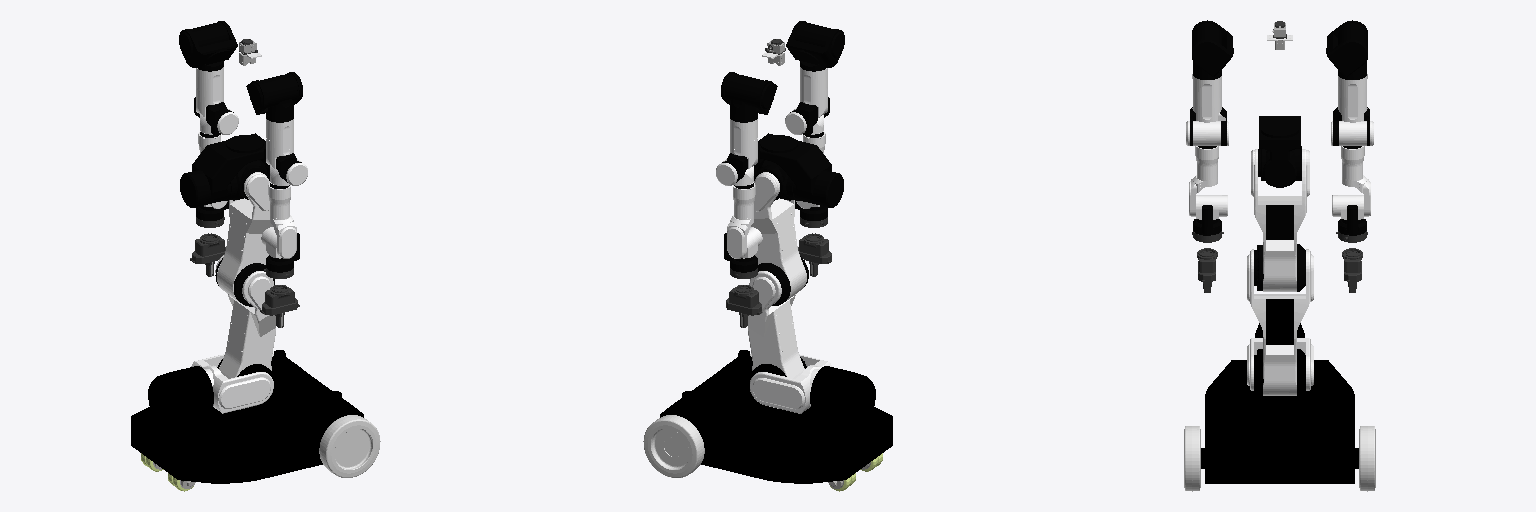
--- Facts derived from the render (not from the file) ---
3 views of the same robot in one strip: view 1: azimuth 30°, elevation 25°; view 2: azimuth 150°, elevation 25°; view 3: azimuth 270°, elevation 25° (orthographic).
Robot: RB_Y1_V1_0_1 — 34 links, 33 joints (22 revolute, 2 continuous, 4 prismatic, 5 fixed); root link base; default pose: every joint at zero.
Links seen in each view (by area): view 1: base, link_torso_2, link_torso_1, link_torso_4, wheel_r, link_torso_0, link_left_arm_2, link_right_arm_2, link_left_arm_0, link_right_arm_1, link_right_arm_3, ee_right (+6 smaller); view 2: base, link_torso_2, link_torso_1, link_torso_4, wheel_l, link_torso_0, link_right_arm_2, link_left_arm_2, link_right_arm_0, link_left_arm_1, link_left_arm_3, ee_left (+6 smaller); view 3: base, link_torso_1, link_torso_2, link_torso_4, link_right_arm_2, link_left_arm_2, link_right_arm_3, link_left_arm_3, link_right_arm_0, link_left_arm_0, link_right_arm_5, link_left_arm_5 (+7 smaller).
Link boxes in pixels (x1,y1,x2,y2): base: [131, 350, 363, 491]; link_torso_2: [215, 172, 274, 306]; link_torso_1: [215, 255, 275, 407]; link_torso_4: [180, 133, 269, 207]; wheel_r: [319, 415, 380, 477]; link_torso_0: [191, 354, 273, 413]; link_left_arm_2: [194, 67, 238, 134]; link_right_arm_2: [264, 119, 307, 185]; link_left_arm_0: [179, 21, 237, 67]; link_right_arm_1: [260, 74, 297, 122]; link_right_arm_3: [267, 159, 300, 218]; ee_right: [260, 285, 299, 315]; base: [660, 350, 892, 491]; link_torso_2: [751, 172, 808, 305]; link_torso_1: [748, 259, 806, 379]; link_torso_4: [757, 133, 843, 207]; wheel_l: [643, 415, 704, 477]; link_torso_0: [750, 354, 831, 413]; link_right_arm_2: [785, 67, 829, 134]; link_left_arm_2: [716, 119, 759, 185]; link_right_arm_0: [786, 21, 844, 67]; link_left_arm_1: [726, 74, 763, 122]; link_left_arm_3: [723, 159, 756, 218]; ee_left: [726, 285, 761, 315]; base: [1201, 323, 1358, 483]; link_torso_1: [1247, 249, 1313, 395]; link_torso_2: [1251, 149, 1309, 291]; link_torso_4: [1259, 116, 1300, 187]; link_right_arm_2: [1186, 74, 1228, 145]; link_left_arm_2: [1331, 74, 1373, 145]; link_right_arm_3: [1193, 121, 1225, 179]; link_left_arm_3: [1334, 121, 1366, 179]; link_right_arm_0: [1192, 20, 1233, 76]; link_left_arm_0: [1326, 20, 1367, 76]; link_right_arm_5: [1193, 195, 1227, 235]; link_left_arm_5: [1332, 195, 1366, 235].
Bounding box of the posed robot: 0.6626 × 0.58 × 1.45 m (x, y, z).
30 mesh visuals loaded from 29 distinct referenced files (25 Collada DAE); not drawn: 4 (reference not matched to a file when rendering).

The robot description file, URDF, robot "RB_Y1_V1_0_1":
<?xml version="1.0"?>
<robot name="RB_Y1_V1_0_1">
    <mobile type="differential" xyz="0.228 0 0" rpy="0 0 0" joints="right_wheel left_wheel"
            params="0.53 0.1"/> <!-- wheel_base, wheel_radius -->

    <link name="base">
        <inertial>
            <mass value="60.08042639"/>
            <origin rpy="0 0 0" xyz="-0.06157942 -0.00142271 0.13513861"/>
            <inertia ixx="1.37742174" ixy="0.02521789" ixz="0.18565467" iyy="2.99386515" iyz="-0.00641869"
                     izz="3.76085052"/>
        </inertial>

        <visual>
            <geometry>
                <mesh filename="./meshes/base.dae"/>
            </geometry>
        </visual>
    </link>

    <link name="wheel_r">
        <inertial>
            <mass value="1.37783736"/>
            <origin rpy="0 0 0" xyz="0.0 -0.00073938 0.0"/>
            <inertia ixx="0.00426657" ixy="0.0" ixz="0.0" iyy="0.00811815" iyz="0.0" izz="0.00426657"/>
        </inertial>

        <visual>
            <geometry>
                <mesh filename="./meshes/WHEEL.dae"/>
            </geometry>
        </visual>
    </link>

    <link name="wheel_l">
        <inertial>
            <mass value="1.37783736"/>
            <origin rpy="0 0 0" xyz="0.0 0.00073938 0.0"/>
            <inertia ixx="0.00426657" ixy="0.0" ixz="0.0" iyy="0.00811815" iyz="0.0" izz="0.00426657"/>
        </inertial>

        <visual>
            <geometry>
                <mesh filename="./meshes/WHEEL.dae"/>
            </geometry>
        </visual>
    </link>

    <link name="link_torso_0">
        <inertial>
            <mass value="2.24282123"/>
            <origin rpy="0 0 0" xyz="-0.08848415 0.00021367 0.00000046"/>
            <inertia ixx="0.01413496" ixy="0.00092982" ixz="-0.00000010" iyy="0.01005357"
                     iyz="-0.00000008" izz="0.01892525"/>
        </inertial>

        <visual>
            <geometry>
                <mesh filename="./meshes/LINK_1.dae"/>
            </geometry>
        </visual>

        <collision>
            <origin xyz="-0.115 0 0" rpy="0 1.5708 0"/>
            <geometry>
                <capsule radius="0.105" length="0.230" coltype="1"/>
                <!-- <capsule sp="0.0 0.0 0.0" ep="-0.230 0.0 0.0" radius="0.105" length="1"/> -->
            </geometry>
        </collision>
    </link>

    <link name="link_torso_1">
        <inertial>
            <mass value="9.72162676"/>
            <origin rpy="0 0 0" xyz="0.00728955 -0.01728522 0.06911380"/>
            <inertia ixx="0.14862640" ixy="-0.00142621" ixz="-0.00951385" iyy="0.13854733"
                     iyz="-0.00975351" izz="0.02912982"/>
        </inertial>

        <visual>
            <geometry>
                <mesh filename="./meshes/LINK_2.dae"/>
            </geometry>
        </visual>

        <collision>
            <origin xyz="0.0100 0 0.2400" rpy="0 0 0"/>
            <geometry>
                <capsule radius="0.115" length="0.220" coltype="2"/>
                <!-- <capsule sp="0.01 0.0 0.130" ep="0.01 0.0 0.350" radius="0.115"/> -->
            </geometry>
        </collision>
    </link>

    <link name="link_torso_2">
        <inertial>
            <mass value="9.21691850"/>
            <origin rpy="0 0 0" xyz="0.00653835 -0.01769536 0.05636582"/>
            <inertia ixx="0.12162270" ixy="-0.00127910" ixz="-0.00831678" iyy="0.11589190"
                     iyz="-0.00873271" izz="0.03094484"/>
        </inertial>

        <visual>
            <geometry>
                <mesh filename="./meshes/LINK_3.dae"/>
            </geometry>
        </visual>

        <collision>
            <origin xyz="0.0250 0 0.2300" rpy="0 0 0"/>
            <geometry>
                <capsule radius="0.095" length="0.1600" coltype="4"/>
                <!-- <capsule sp="0.025 0.0 0.15" ep="0.025 0.0 0.310" radius="0.095"/> -->
            </geometry>
        </collision>
    </link>

    <link name="link_torso_3">
        <inertial>
            <mass value="4.18679196"/>
            <origin rpy="0 0 0" xyz="-0.00574156 -0.01725975 0.00005610"/>
            <inertia ixx="0.00849870" ixy="0.00040861" ixz="-0.00000263" iyy="0.00929513"
                     iyz="-0.00001243" izz="0.00955442"/>
        </inertial>

        <visual>
            <geometry>
                <mesh filename="./meshes/LINK_4.dae"/>
            </geometry>
        </visual>
    </link>

    <link name="link_torso_4">
        <inertial>
            <mass value="4.45566276"/>
            <origin rpy="0 0 0" xyz="-0.09097095 0.00005085 0.02601950"/>
            <inertia ixx="0.01545991" ixy="0.00001883" ixz="-0.00780349" iyy="0.02550888" iyz="0.00000715"
                     izz="0.01952563"/>
        </inertial>

        <visual>
            <geometry>
                <mesh filename="./meshes/LINK_5.dae"/>
            </geometry>
        </visual>


        <collision>
            <origin xyz="-0.070000 0 0.038500" rpy="0 1.5708 0"/>
            <geometry>
                <capsule radius="0.105" length="0.2" coltype="8"/>
                <!-- <capsule sp="0.03 0.0 0.0385" ep="-0.170 0.0 0.0385" radius="0.105"/> -->
            </geometry>
        </collision>
    </link>

    <link name="link_torso_5">
        <inertial>
            <mass value="12.59012341"/>
            <origin rpy="0 0 0" xyz="-0.01338376 0.00025621 -0.03272487"/>
            <inertia ixx="0.21375525" ixy="0.00051520" ixz="0.00880124" iyy="0.16562090" iyz="-0.00023995"
                     izz="0.13308879"/>
        </inertial>

        <visual>
            <geometry>
                <mesh filename="./meshes/LINK_6.dae"/>
            </geometry>
        </visual>

        <collision>
            <origin xyz="0 0 0.0075" rpy="0 0 0"/>
            <geometry>
                <capsule radius="0.155" length="0.1350" coltype="16"/>
                <!-- <capsule sp="0.0 0.0 -0.06" ep="0.0 0.0 0.075" radius="0.155"/> -->
            </geometry>
        </collision>
    </link>

    <link name="link_right_arm_0">
        <inertial>
            <mass value="1.26164242"/>
            <origin rpy="0 0 0" xyz="-0.00316662 0.03437181 -0.00000030"/>
            <inertia ixx="0.00230621" ixy="0.00039024" ixz="-0.00000256" iyy="0.00426418" iyz="0.00000118"
                     izz="0.00432156"/>
        </inertial>

        <visual>
            <geometry>
                <mesh filename="./meshes/LINK_7.dae"/>
            </geometry>
        </visual>

        <collision>
            <origin xyz="-0.015 0.018 -0.008" rpy="0 1.5708 0"/>
            <geometry>
                <capsule radius="0.075" length="0.0700"/>
            </geometry>
        </collision>
    </link>

    <link name="link_right_arm_1">
        <inertial>
            <mass value="2.27287031"/>
            <origin rpy="0 0 0" xyz="-0.00307855 -0.00124741 -0.01294324"/>
            <inertia ixx="0.00388490" ixy="-0.00001477" ixz="0.00011465" iyy="0.00447034"
                     iyz="-0.00010023" izz="0.00288341"/>
        </inertial>

        <visual>
            <geometry>
                <mesh filename="./meshes/LINK_8.dae"/>
            </geometry>
        </visual>

        <collision>
            <origin xyz="0 0 -0.1000" rpy="0 0 0"/>
            <geometry>
                <capsule radius="0.05" length="0.2" coltype="32"/>
                <!-- <capsule sp="0.0 0.0 0.0" ep="0.0 0.0 -0.200" radius="0.050"/> -->
            </geometry>
        </collision>
    </link>

    <link name="link_right_arm_2">
        <inertial>
            <mass value="2.46909439"/>
            <origin rpy="0 0 0" xyz="0.00115434 -0.00196635 -0.16192524"/>
            <inertia ixx="0.00980269" ixy="0.00005871" ixz="0.00051888" iyy="0.00924560" iyz="-0.00045932"
                     izz="0.00329867"/>
        </inertial>

        <visual>
            <geometry>
                <mesh filename="./meshes/LINK_9.dae"/>
            </geometry>
        </visual>

        <collision>
            <origin xyz="0.0260 0 -0.2760" rpy="1.5708 0 0"/>
            <geometry>
                <capsule radius="0.05" length="0.080000" coltype="64"/>
                <!-- <capsule sp="0.026 -0.040 -0.276" ep="0.026 0.040 -0.276" radius="0.05"/> -->
            </geometry>
        </collision>
    </link>

    <link name="link_right_arm_3">
        <inertial>
            <mass value="2.26099493"/>
            <origin rpy="0 0 0" xyz="-0.01603135 -0.00692891 -0.04549811"/>
            <inertia ixx="0.00822606" ixy="0.00027620" ixz="-0.00156570" iyy="0.00844870" iyz="0.00076157"
                     izz="0.00236614"/>
        </inertial>

        <visual>
            <geometry>
                <mesh filename="./meshes/LINK_10.dae"/>
            </geometry>
        </visual>

        <collision>
            <origin xyz="-0.0310 0 -0.1075" rpy="0 0 0"/>
            <geometry>
                <capsule radius="0.04" length="0.1150" coltype="128" colaffinity="30"/>
                <!-- <capsule sp="-0.031 0.0 -0.05" ep="-0.031 0.0 -0.165" radius="0.04"/> -->
            </geometry>
        </collision>
    </link>

    <link name="link_right_arm_4">
        <inertial>
            <mass value="0.42508710"/>
            <origin rpy="0 0 0" xyz="-0.00000011 -0.02696036 0.06182110"/>
            <inertia ixx="0.00082466" ixy="0.0" ixz="0.0" iyy="0.00075398" iyz="-0.00025338"
                     izz="0.00039794"/>
        </inertial>

        <visual>
            <geometry>
                <mesh filename="./meshes/LINK_11.dae"/>
            </geometry>
        </visual>

        <collision>
            <origin xyz="0 -0.038 0.0175" rpy="0 0 0"/>
            <geometry>
                <capsule radius="0.035" length="0.095" coltype="256" colaffinity="30"/>
            </geometry>
        </collision>
    </link>

    <link name="link_right_arm_5">
        <inertial>
            <mass value="1.59194395"/>
            <origin rpy="0 0 0" xyz="0.00318034 -0.00532264 -0.02809655"/>
            <inertia ixx="0.00256054" ixy="-0.00002344" ixz="-0.00001563" iyy="0.00257233"
                     iyz="0.00021608" izz="0.00156092"/>
        </inertial>

        <visual>
            <geometry>
                <mesh filename="./meshes/LINK_12.dae"/>
            </geometry>
        </visual>

        <collision>
            <origin xyz="0 0 -0.1" rpy="0 0 0"/>
            <geometry>
                <capsule radius="0.075" length="0.25" coltype="512" colaffinity="31"/>
                <!-- <capsule sp="0.0 0.0 0.002" ep="0.0 0.0 -0.050" radius="0.075"/> -->
            </geometry>
        </collision>
    </link>

    <link name="link_right_arm_6">
        <inertial>
            <mass value="0.21137279"/>
            <origin rpy="0 0 0" xyz="0.00066810 -0.00031708 -0.09636043"/>
            <inertia ixx="0.00013511" ixy="-0.00000242" ixz="-0.00000102" iyy="0.00014453"
                     iyz="0.00000094" izz="0.00025431"/>
        </inertial>

        <visual>
            <geometry>
                <mesh filename="./meshes/LINK_13.dae"/>
            </geometry>
        </visual>
    </link>

    <link name="link_left_arm_0">
        <inertial>
            <mass value="1.26164242"/>
            <origin rpy="0 0 0" xyz="-0.00316662 -0.03437151 0.00000242"/>
            <inertia ixx="0.00230624" ixy="-0.00039022" ixz="0.00000269" iyy="0.00426418" iyz="0.00000108"
                     izz="0.00432159"/>
        </inertial>

        <visual>
            <geometry>
                <mesh filename="./meshes/LINK_14.dae"/>
            </geometry>
        </visual>

        <collision>
            <origin xyz="-0.015 -0.018 -0.008" rpy="0 1.5708 0"/>
            <geometry>
                <capsule radius="0.075" length="0.0700"/>
            </geometry>
        </collision>
    </link>

    <link name="link_left_arm_1">
        <inertial>
            <mass value="1.88138658"/>
            <origin rpy="0 0 0" xyz="-0.00183470 0.00040596 -0.01008733"/>
            <inertia ixx="0.00295838" ixy="-0.00001176" ixz="0.00006949" iyy="0.00355208" iyz="0.00004467"
                     izz="0.00230558"/>
        </inertial>

        <visual>
            <geometry>
                <mesh filename="./meshes/LINK_15.dae"/>
            </geometry>
        </visual>

        <collision>
            <origin xyz="0 0 -0.1000" rpy="0 0 0"/>
            <geometry>
                <capsule radius="0.050" length="0.2000" colaffinity="768"/>
            </geometry>
        </collision>
    </link>

    <link name="link_left_arm_2">
        <inertial>
            <mass value="2.35634437"/>
            <origin rpy="0 0 0" xyz="0.00066086 -0.00038583 -0.15742972"/>
            <inertia ixx="0.00842712" ixy="0.00000247" ixz="0.00036948" iyy="0.00802311" iyz="-0.00006550"
                     izz="0.00295678"/>
        </inertial>

        <visual>
            <geometry>
                <mesh filename="./meshes/LINK_16.dae"/>
            </geometry>
        </visual>

        <collision>
            <origin xyz="0.0260 0 -0.2760" rpy="1.5708 0 0"/>
            <geometry>
                <capsule radius="0.05" length="0.080000" colaffinity="768"/>
            </geometry>
        </collision>
    </link>

    <link name="link_left_arm_3">
        <inertial>
            <mass value="2.00905891"/>
            <origin rpy="0 0 0" xyz="-0.01565298 0.00793126 -0.04997943"/>
            <inertia ixx="0.00756474" ixy="-0.00026771" ixz="-0.00155419" iyy="0.00772758"
                     iyz="-0.00084364" izz="0.00199754"/>
        </inertial>

        <visual>
            <geometry>
                <mesh filename="./meshes/LINK_17.dae"/>
            </geometry>
        </visual>

        <collision>
            <origin xyz="-0.0310 0 -0.1075" rpy="0 0 0"/>
            <geometry>
                <capsule radius="0.04" length="0.1150" colaffinity="926"/>
            </geometry>
        </collision>
    </link>

    <link name="link_left_arm_4">
        <inertial>
            <mass value="0.42508710"/>
            <origin rpy="0 0 0" xyz="0.00000011 0.02696036 0.06182110"/>
            <inertia ixx="0.00082466" ixy="0.0" ixz="0.0" iyy="0.00075398" iyz="0.00025338"
                     izz="0.00039794"/>
        </inertial>

        <visual>
            <geometry>
                <mesh filename="./meshes/LINK_18.dae"/>
            </geometry>
        </visual>

        <collision>
            <origin xyz="0 0.038000 0.017500" rpy="0 0 0"/>
            <geometry>
                <capsule radius="0.035" length="0.095000" colaffinity="1022"/>
            </geometry>
        </collision>
    </link>

    <link name="link_left_arm_5">
        <inertial>
            <mass value="1.44264795"/>
            <origin rpy="0 0 0" xyz="0.00340082 0.00576824 -0.02507309"/>
            <inertia ixx="0.00233577" ixy="0.00003048" ixz="-0.00001191" iyy="0.00232580"
                     iyz="-0.00019491" izz="0.00138375"/>
        </inertial>

        <visual>
            <geometry>
                <mesh filename="./meshes/LINK_19.dae"/>
            </geometry>
        </visual>

        <collision>
            <origin xyz="0 0 -0.1" rpy="0 0 0"/>
            <geometry>
                <capsule radius="0.075" length="0.25" colaffinity="1023"/>
            </geometry>
        </collision>
    </link>

    <link name="link_left_arm_6">
        <inertial>
            <mass value="0.21137279"/>
            <origin rpy="0 0 0" xyz="-0.00066810 0.00031708 -0.09636043"/>
            <inertia ixx="0.00013511" ixy="-0.00000242" ixz="0.00000102" iyy="0.00014453"
                     iyz="-0.00000094" izz="0.00025431"/>
        </inertial>

        <visual>
            <geometry>
                <mesh filename="./meshes/LINK_20.dae"/>
            </geometry>
        </visual>
    </link>

    <link name="FT_sensor_R">
        <inertial>
            <mass value="0.49078507"/>
            <origin rpy="0 0 0" xyz="0.00010423 0.00108019 -0.01880676"/>
            <inertia ixx="0.00028587" ixy="-0.00000146" ixz="-0.00000026" iyy="0.00030459"
                     iyz="-0.00000772" izz="0.00036377"/>
        </inertial>

        <visual>
            <geometry>
                <mesh filename="./meshes/FT_SENSOR_R.dae"/>
            </geometry>
        </visual>
    </link>

    <link name="FT_sensor_L">
        <inertial>
            <mass value="0.49078507"/>
            <origin rpy="0 0 0" xyz="-0.00010423 -0.00108019 -0.01880676"/>
            <inertia ixx="0.00028587" ixy="-0.00000146" ixz="0.00000026" iyy="0.00030459" iyz="0.00000772"
                     izz="0.00036377"/>
        </inertial>

        <visual>
            <geometry>
                <mesh filename="./meshes/FT_SENSOR_L.dae"/>
            </geometry>
        </visual>
    </link>

    <link name="ee_right">
        <inertial>
            <mass value="0.46704998"/>
            <origin rpy="0 0 0" xyz="0.00212703 0.00000615 -0.04287176"/>
            <inertia ixx="0.00032067" ixy="0.00002383" ixz="-0.00000785" iyy="0.00059559"
                     iyz="-0.00000007" izz="0.00052732"/>
        </inertial>

        <visual>
            <geometry>
                <mesh filename="./meshes/EE_BODY.dae"/>
            </geometry>
        </visual>
    </link>

    <link name="ee_finger_r1">
        <inertial>
            <mass value="0.03326999"/>
            <origin rpy="0 0 0" xyz="0.00278346 -0.00000329 -0.02570112"/>
            <inertia ixx="0.00001231" ixy="0.0" ixz="-0.00000042" iyy="0.00001066" iyz="0.0"
                     izz="0.00000224"/>
        </inertial>

        <visual>
            <geometry>
                <mesh filename="./meshes/EE_FINGER.dae"/>
            </geometry>
        </visual>
    </link>

    <link name="ee_finger_r2">
        <inertial>
            <mass value="0.03326999"/>
            <origin rpy="0 0 0" xyz="0.00278346 -0.00000329 -0.02570112"/>
            <inertia ixx="0.00001231" ixy="0.0" ixz="-0.00000042" iyy="0.00001066" iyz="0.0"
                     izz="0.00000224"/>
        </inertial>

        <visual>
            <geometry>
                <mesh filename="./meshes/EE_FINGER.dae"/>
            </geometry>
        </visual>
    </link>

    <link name="ee_left">
        <inertial>
            <mass value="0.46704998"/>
            <origin rpy="0 0 0" xyz="0.00212703 0.00000615 -0.04287176"/>
            <inertia ixx="0.00032067" ixy="0.00002383" ixz="-0.00000785" iyy="0.00059559"
                     iyz="-0.00000007" izz="0.00052732"/>
        </inertial>

        <visual>
            <geometry>
                <mesh filename="./meshes/EE_BODY.dae"/>
            </geometry>
        </visual>
    </link>

    <link name="ee_finger_l1">
        <inertial>
            <mass value="0.03326999"/>
            <origin rpy="0 0 0" xyz="0.00278346 -0.00000329 -0.02570112"/>
            <inertia ixx="0.00001231" ixy="0.0" ixz="-0.00000042" iyy="0.00001066" iyz="0.0"
                     izz="0.00000224"/>
        </inertial>

        <visual>
            <geometry>
                <mesh filename="./meshes/EE_FINGER.dae"/>
            </geometry>
        </visual>
    </link>

    <link name="ee_finger_l2">
        <inertial>
            <mass value="0.03326999"/>
            <origin rpy="0 0 0" xyz="0.00278346 -0.00000329 -0.02570112"/>
            <inertia ixx="0.00001231" ixy="0.0" ixz="-0.00000042" iyy="0.00001066" iyz="0.0"
                     izz="0.00000224"/>
        </inertial>

        <visual>
            <geometry>
                <mesh filename="./meshes/EE_FINGER.dae"/>
            </geometry>
        </visual>
    </link>

    <link name="link_head_0">
        <inertial>
            <mass value="0.07582110"/>
            <origin rpy="0 0 0" xyz="-0.00800549 0.0 -0.01100308"/>
            <inertia ixx="0.00003307" ixy="0.0" ixz="-0.00000290" iyy="0.00002209" iyz="0.0"
                     izz="0.00003796"/>
        </inertial>

        <visual>
            <geometry>
                <mesh filename="./meshes/PAN_TILT_1.dae"/>
            </geometry>
        </visual>
    </link>

    <link name="link_head_1">
        <inertial>
            <mass value="0.07450580"/>
            <origin rpy="0 0 0" xyz="-0.01150679 -0.00114270 -0.00031579"/>
            <inertia ixx="0.00001850" ixy="-0.00000035" ixz="0.00000203" iyy="0.00002451"
                     iyz="-0.00000010" izz="0.00002062"/>
        </inertial>

        <visual>
            <geometry>
                <mesh filename="./meshes/PAN_TILT_2.dae"/>
            </geometry>
        </visual>
    </link>

    <link name="link_head_2">
        <inertial>
            <mass value="0.03585374"/>
            <origin rpy="0 0 0" xyz="-0.00081966 0.00099024 0.02283704"/>
            <inertia ixx="0.00002046" ixy="0.00000001" ixz="-0.00000027" iyy="0.00001044" iyz="0.00000076"
                     izz="0.00001291"/>
        </inertial>

        <visual>
            <geometry>
                <mesh filename="./meshes/PAN_TILT_3.dae"/>
            </geometry>
        </visual>
    </link>


    <!-- Joints -->
    <joint name="right_wheel" type="continuous">
        <parent link="base"/>
        <child link="wheel_r"/>
        <origin rpy="0.0 0.0 0.0" xyz="0.228 -0.265 0.1"/>
        <axis xyz="0 -1 0"/>
        <limit velocity="15.707963268" acceleration="3.141592"/>
    </joint>

    <joint name="left_wheel" type="continuous">
        <parent link="base"/>
        <child link="wheel_l"/>
        <origin rpy="0.0 0.0 0.0" xyz="0.228 0.265 0.1"/>
        <axis xyz="0 -1 0"/>
        <limit velocity="15.707963268" acceleration="3.141592"/>
    </joint>

    <joint name="torso_0" type="revolute">
        <parent link="base"/>
        <child link="link_torso_0"/>
        <origin rpy="0.0 0.0 0.0" xyz="0.0 0.0 0.2805"/>
        <axis xyz="1 0 0"/>
        <!-- Nm, rad/s^2, rad/s, (min) rad, (max) rad -->
        <!-- 270Nm, 5rad/s^2, 120deg/s, -15deg, 15deg -->
        <limit effort="270.0"
               acceleration="5.0"
               velocity="2.09439510"
               lower="-0.261799388"
               upper="0.261799388"
        />
    </joint>

    <joint name="torso_1" type="revolute">
        <parent link="link_torso_0"/>
        <child link="link_torso_1"/>
        <origin rpy="0.0 0.0 0.0" xyz="0.0 0.0 0.0"/>
        <axis xyz="0 1 0"/>
        <!-- Nm, rad/s^2, rad/s, (min) rad, (max) rad -->
        <!-- 270Nm, 5rad/s^2, 120deg/s, -30deg, 90deg -->
        <limit effort="270.0"
               acceleration="5.0"
               velocity="2.09439510"
               lower="-0.523598776"
               upper="1.570796327"
        />
    </joint>

    <joint name="torso_2" type="revolute">
        <parent link="link_torso_1"/>
        <child link="link_torso_2"/>
        <origin rpy="0.0 0.0 0.0" xyz="0.0 0.0 0.350"/>
        <axis xyz="0 1 0"/>
        <!-- Nm, rad/s^2, rad/s, (min) rad, (max) rad -->
        <!-- 270Nm, 5rad/s^2, 120deg/s, -150deg, 90deg -->
        <limit effort="270.0"
               acceleration="5.0"
               velocity="2.09439510"
               lower="-2.617993878"
               upper="1.570796327"
        />
    </joint>

    <joint name="torso_3" type="revolute">
        <parent link="link_torso_2"/>
        <child link="link_torso_3"/>
        <origin rpy="0.0 0.0 0.0" xyz="0.0 0.0 0.350"/>
        <axis xyz="0 1 0"/>
        <!-- Nm, rad/s^2, rad/s, (min) rad, (max) rad -->
        <!-- 120Nm, 5rad/s^2, 180deg/s, -45deg, 90deg -->
        <limit effort="120.0"
               acceleration="5.0"
               velocity="3.141592654"
               lower="-0.785398163"
               upper="1.570796327"
        />
    </joint>

    <joint name="torso_4" type="revolute">
        <parent link="link_torso_3"/>
        <child link="link_torso_4"/>
        <origin rpy="0.0 0.0 0.0" xyz="0.0 0.0 0.0"/>
        <axis xyz="1 0 0"/>
        <!-- Nm, rad/s^2, rad/s, (min) rad, (max) rad -->
        <!-- 120Nm, 5rad/s^2, 180deg/s, -30deg, 30deg -->
        <limit effort="120.0"
               acceleration="5.0"
               velocity="3.141592654"
               lower="-0.523598776"
               upper="0.523598776"
        />
    </joint>

    <joint name="torso_5" type="revolute">
        <parent link="link_torso_4"/>
        <child link="link_torso_5"/>
        <origin rpy="0.0 0.0 0.0" xyz="0.0 0.0 0.309426548461"/>
        <axis xyz="0 0 1"/>
        <!-- Nm, rad/s^2, rad/s, (min) rad, (max) rad -->
        <!-- 120Nm, 5rad/s^2, 180deg/s, -135deg, 135deg -->
        <limit effort="120.0"
               acceleration="5.0"
               velocity="3.141592654"
               lower="-2.35619449"
               upper="2.35619449"
        />
    </joint>

    <joint name="right_arm_0" type="revolute">
        <parent link="link_torso_5"/>
        <child link="link_right_arm_0"/>
        <origin rpy="-0.349065850  0.0 0.0" xyz="0.0 -0.220 0.080073451539 "/>
        <axis xyz="0 1 0"/>
        <!-- Nm, rad/s^2, rad/s, (min) rad, (max) rad -->
        <!-- 70Nm, 10rad/s^2, 180deg/s, -180deg, 180deg -->
        <limit effort="70.0"
               acceleration="10.0"
               velocity="3.141592654"
               lower="-3.141592654"
               upper="3.141592654"
        />
    </joint>

    <joint name="right_arm_1" type="revolute">
        <parent link="link_right_arm_0"/>
        <child link="link_right_arm_1"/>
        <origin rpy="0.349065850 0.0 0.0" xyz="0.0 0.0 0.0"/>
        <axis xyz="1 0 0"/>
        <!-- Nm, rad/s^2, rad/s, (min) rad, (max) rad -->
        <!-- 70Nm, 10rad/s^2, 180deg/s, -180deg, 1deg -->
        <limit effort="70.0"
               acceleration="10.0"
               velocity="3.141592654"
               lower="-3.141592654"
               upper="0.017453293"
        />
    </joint>

    <joint name="right_arm_2" type="revolute">
        <parent link="link_right_arm_1"/>
        <child link="link_right_arm_2"/>
        <origin rpy="0.0 0.0 0.0" xyz="0.0 0.0 0.0"/>
        <axis xyz="0 0 1"/>
        <!-- Nm, rad/s^2, rad/s, (min) rad, (max) rad -->
        <!-- 70Nm, 10rad/s^2, 180deg/s, -180deg, 180deg -->
        <limit effort="70.0"
               acceleration="10.0"
               velocity="3.141592654"
               lower="-3.141592654"
               upper="3.141592654"
        />
    </joint>

    <joint name="right_arm_3" type="revolute">
        <parent link="link_right_arm_2"/>
        <child link="link_right_arm_3"/>
        <origin rpy="0.0 0.0 0.0" xyz="0.031 0.0 -0.276"/>
        <axis xyz="0 1 0"/>
        <!-- Nm, rad/s^2, rad/s, (min) rad, (max) rad -->
        <!-- 40Nm, 10rad/s^2, 180deg/s, -150deg, 1deg -->
        <limit effort="40.0"
               acceleration="10.0"
               velocity="3.141592654"
               lower="-2.617993878"
               upper="0.017453293"
        />
    </joint>

    <joint name="right_arm_4" type="revolute">
        <parent link="link_right_arm_3"/>
        <child link="link_right_arm_4"/>
        <origin rpy="0.0 0.0 0.0" xyz="-0.031 0.0 -0.256"/>
        <axis xyz="0 0 1"/>
        <!-- Nm, rad/s^2, rad/s, (min) rad, (max) rad -->
        <!-- 10Nm, 10rad/s^2, 360deg/s, -180deg, 180deg -->
        <limit effort="10.0"
               acceleration="10.0"
               velocity="6.283185308"
               lower="-3.141592654"
               upper="3.141592654"
        />
    </joint>

    <joint name="right_arm_5" type="revolute">
        <parent link="link_right_arm_4"/>
        <child link="link_right_arm_5"/>
        <origin rpy="0.0 0.0 0.0" xyz="0.0 0.0 0.0"/>
        <axis xyz="0 1 0"/>
        <!-- Nm, rad/s^2, rad/s, (min) rad, (max) rad -->
        <!-- 10Nm, 10rad/s^2, 360deg/s, -90deg, 110deg -->
        <limit effort="10.0"
               acceleration="10.0"
               velocity="6.283185308"
               lower="-1.570796327"
               upper="1.919862177"
        />
    </joint>

    <joint name="right_arm_6" type="revolute">
        <parent link="link_right_arm_5"/>
        <child link="link_right_arm_6"/>
        <origin rpy="0.0 0.0 0.0" xyz="0.0 0.0 0.0"/>
        <axis xyz="0 0 1"/>
        <!-- Nm, rad/s^2, rad/s, (min) rad, (max) rad -->
        <!-- 8Nm, 10rad/s^2, 120deg/s, -160deg, 160deg -->
        <limit effort="8.0"
               acceleration="10.0"
               velocity="2.094395102"
               lower="-2.792526803"
               upper="2.792526803"
        />
    </joint>

    <joint name="left_arm_0" type="revolute">
        <parent link="link_torso_5"/>
        <child link="link_left_arm_0"/>
        <origin rpy="0.349065850  0.0 0.0" xyz="0.0 0.220 0.080073452 "/>
        <axis xyz="0 1 0"/>
        <!-- Nm, rad/s^2, rad/s, (min) rad, (max) rad -->
        <!-- 70Nm, 10rad/s^2, 180deg/s, -180deg, 180deg -->
        <limit effort="70.0"
               acceleration="10.0"
               velocity="3.141592654"
               lower="-3.141592654"
               upper="3.141592654"
        />
    </joint>

    <joint name="left_arm_1" type="revolute">
        <parent link="link_left_arm_0"/>
        <child link="link_left_arm_1"/>
        <origin rpy="-0.349065850 0.0 0.0" xyz="0.0 0.0 0.0"/>
        <axis xyz="1 0 0"/>
        <!-- Nm, rad/s^2, rad/s, (min) rad, (max) rad -->
        <!-- 70Nm, 10rad/s^2, 180deg/s, -1deg, 180deg -->
        <limit effort="70.0"
               acceleration="10.0"
               velocity="3.141592654"
               lower="-0.017453293"
               upper="3.141592654"
        />
    </joint>

    <joint name="left_arm_2" type="revolute">
        <parent link="link_left_arm_1"/>
        <child link="link_left_arm_2"/>
        <origin rpy="0.0 0.0 0.0" xyz="0.0 0.0 0.0"/>
        <axis xyz="0 0 1"/>
        <!-- Nm, rad/s^2, rad/s, (min) rad, (max) rad -->
        <!-- 70Nm, 10rad/s^2, 180deg/s, -180deg, 180deg -->
        <limit effort="70.0"
               acceleration="10.0"
               velocity="3.141592654"
               lower="-3.141592654"
               upper="3.141592654"
        />
    </joint>

    <joint name="left_arm_3" type="revolute">
        <parent link="link_left_arm_2"/>
        <child link="link_left_arm_3"/>
        <origin rpy="0.0 0.0 0.0" xyz="0.031 0.0 -0.276"/>
        <axis xyz="0 1 0"/>
        <!-- Nm, rad/s^2, rad/s, (min) rad, (max) rad -->
        <!-- 40Nm, 10rad/s^2, 180deg/s, -150deg, 1deg -->
        <limit effort="40.0"
               acceleration="10.0"
               velocity="3.141592654"
               lower="-2.617993878"
               upper="0.017453293"
        />
    </joint>

    <joint name="left_arm_4" type="revolute">
        <parent link="link_left_arm_3"/>
        <child link="link_left_arm_4"/>
        <origin rpy="0.0 0.0 0.0" xyz="-0.031 0.0 -0.256"/>
        <axis xyz="0 0 1"/>
        <!-- Nm, rad/s^2, rad/s, (min) rad, (max) rad -->
        <!-- 10Nm, 10rad/s^2, 360deg/s, -180deg, 180deg -->
        <limit effort="10.0"
               acceleration="10.0"
               velocity="6.283185308"
               lower="-3.141592654"
               upper="3.141592654"
        />
    </joint>

    <joint name="left_arm_5" type="revolute">
        <parent link="link_left_arm_4"/>
        <child link="link_left_arm_5"/>
        <origin rpy="0.0 0.0 0.0" xyz="0.0 0.0 0.0"/>
        <axis xyz="0 1 0"/>
        <!-- Nm, rad/s^2, rad/s, (min) rad, (max) rad -->
        <!-- 10Nm, 10rad/s^2, 360deg/s, -90deg, 110deg -->
        <limit effort="10.0"
               acceleration="10.0"
               velocity="6.283185308"
               lower="-1.570796327"
               upper="1.919862177"
        />
    </joint>

    <joint name="left_arm_6" type="revolute">
        <parent link="link_left_arm_5"/>
        <child link="link_left_arm_6"/>
        <origin rpy="0.0 0.0 0.0" xyz="0.0 0.0 0.0"/>
        <axis xyz="0 0 1"/>
        <!-- Nm, rad/s^2, rad/s, (min) rad, (max) rad -->
        <!-- 8Nm, 10rad/s^2, 120deg/s, -160deg, 160deg -->
        <limit effort="8.0"
               acceleration="10.0"
               velocity="2.094395102"
               lower="-2.792526803"
               upper="2.792526803"
        />
    </joint>

    <joint name="tool_right" type="fixed">
        <parent link="link_right_arm_6"/>
        <child link="FT_sensor_R"/>
        <origin rpy="0.0 0.0 0.0" xyz="0.0 0.0 -0.1087"/>
        <axis xyz="0 0 1"/>
    </joint>

    <joint name="FT_Sensor_END_right" type="fixed">
        <parent link="FT_sensor_R"/>
        <child link="ee_right"/>
        <origin rpy="0.0 0.0 0.0" xyz="0.0 0.0 -0.0461"/>
        <axis xyz="0 0 1"/>
    </joint>

    <joint name="gripper_finger_r1" type="prismatic" in_model_type="fixed">
        <parent link="ee_right"/>
        <child link="ee_finger_r1"/>
        <origin rpy="0.0 0.0 0.0" xyz="0.003 0.0 -0.073"/>
        <axis xyz="-1 0 0"/>
        <limit effort="1000" velocity="0.05" lower="-0.05" upper="0"/>
    </joint>

    <joint name="gripper_finger_r2" type="prismatic" in_model_type="fixed">
        <parent link="ee_right"/>
        <child link="ee_finger_r2"/>
        <origin rpy="0.0 0.0 3.1415926535" xyz="-0.003 0.0 -0.073"/>
        <axis xyz="1 0 0"/>
        <limit effort="1000" velocity="0.05" lower="0" upper="0.05"/>
    </joint>

    <joint name="tool_left" type="fixed">
        <parent link="link_left_arm_6"/>
        <child link="FT_sensor_L"/>
        <origin rpy="0.0 0.0 0" xyz="0.0 0.0 -0.1087"/>
        <axis xyz="0 0 1"/>
    </joint>

    <joint name="FT_Sensor_END_left" type="fixed">
        <parent link="FT_sensor_L"/>
        <child link="ee_left"/>
        <origin rpy="0.0 0.0 0.0" xyz="0.0 0.0 -0.0461"/>
        <axis xyz="0 0 1"/>
    </joint>

    <joint name="gripper_finger_l1" type="prismatic" in_model_type="fixed">
        <parent link="ee_left"/>
        <child link="ee_finger_l1"/>
        <origin rpy="0.0 0.0 0.0" xyz="0.003 0.0 -0.073"/>
        <axis xyz="-1 0 0"/>
        <limit effort="1000" velocity="0.05" lower="-0.05" upper="0"/>
    </joint>

    <joint name="gripper_finger_l2" type="prismatic" in_model_type="fixed">
        <parent link="ee_left"/>
        <child link="ee_finger_l2"/>
        <origin rpy="0.0 0.0 3.1415926535" xyz="-0.003 0.0 -0.073"/>
        <axis xyz="1 0 0"/>
        <limit effort="1000" velocity="0.05" lower="0" upper="0.05"/>
    </joint>

    <joint name="head_base" type="fixed">
        <parent link="link_torso_5"/>
        <child link="link_head_0"/>
        <origin rpy="0.0 0.0 0.0" xyz="0.022 0.0 0.120073451525"/>
        <axis xyz="0 0 1"/>
    </joint>

    <joint name="head_0" type="revolute">
        <parent link="link_head_0"/>
        <child link="link_head_1"/>
        <origin rpy="0.0 0.0 0.0" xyz="0.0 0.0 0.02"/>
        <axis xyz="0 0 1"/>
        <limit effort="1000" velocity="3.14" lower="-0.523" upper="0.523"/>
    </joint>

    <joint name="head_1" type="revolute">
        <parent link="link_head_1"/>
        <child link="link_head_2"/>
        <origin rpy="0.0 0.0 0.0" xyz="0.0 0.0 0.0"/>
        <axis xyz="0 1 0"/>
        <limit effort="1000" velocity="3.14" lower="-0.35" upper="1.57"/>
    </joint>

    <!-- <joint name="head_mount" type="fixed">
      <parent link="link_head_2"/>
      <child link="Arbitrary device"/>
      <origin rpy="0.0 0.0 0.0" xyz="0.022 0.0 0.04"/>
      <axis xyz="0 0 1"/>
    </joint> -->

</robot>
